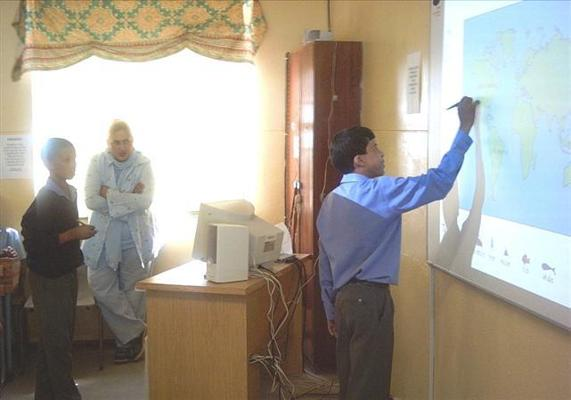person: (318, 97, 483, 396)
